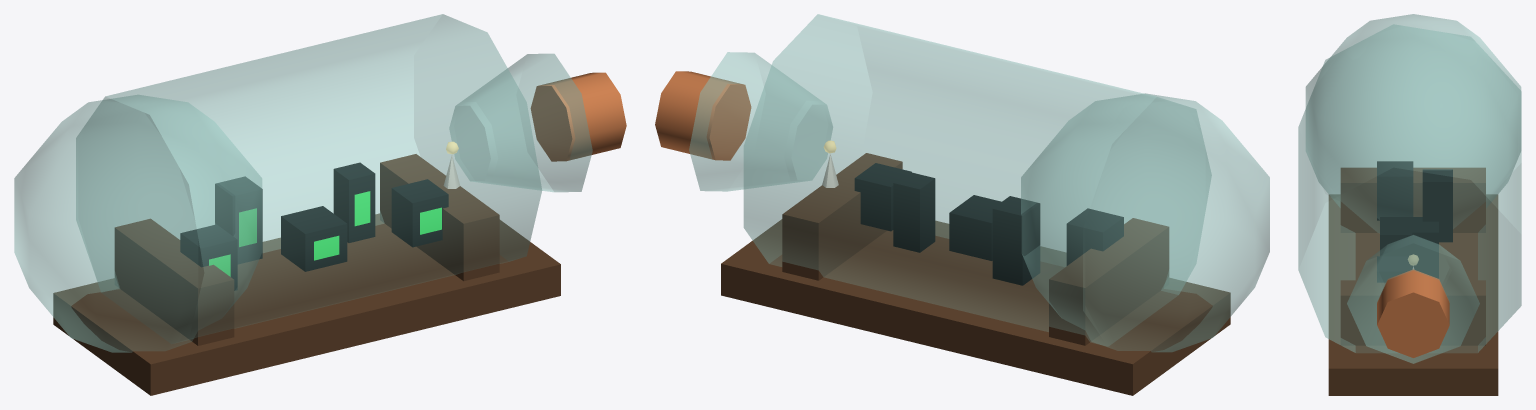
The model's file is threnn-bottle.glb.
3 views of the same model, side by side, from view 1: azimuth 30°, elevation 25°; view 2: azimuth 150°, elevation 25°; view 3: azimuth 270°, elevation 25° (orthographic). The views are drawn at different scales.
Visible parts, largest first — view 1: ThrennBottle, town; view 2: ThrennBottle, town; view 3: ThrennBottle, town.
Part boxes in pixels (x1,y1,x2,y2): ThrennBottle: (14, 14, 626, 395); town: (180, 141, 460, 290); ThrennBottle: (655, 14, 1269, 395); town: (822, 140, 1123, 285); ThrennBottle: (1298, 14, 1521, 395); town: (1377, 161, 1452, 282).
Size of the model in its own units: 4.78 by 1.95 by 1.84.
